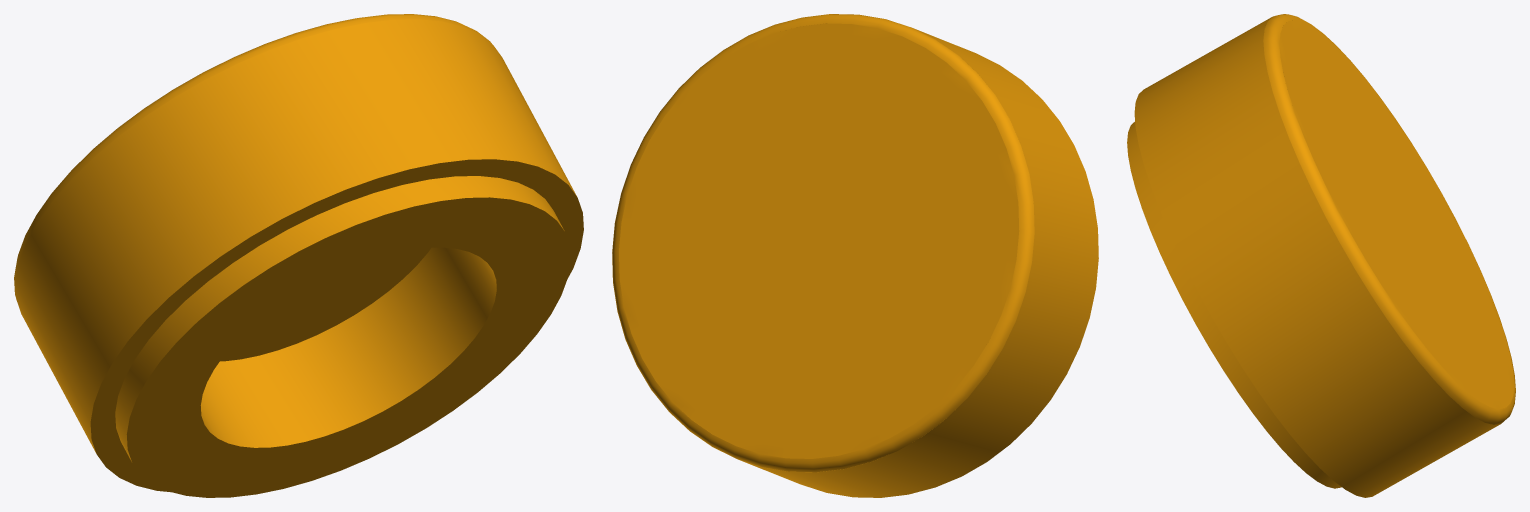
Rendered from tile_round1*1_trans_yellow.obj.
3 renders of one model, left to right at view 1: azimuth 30°, elevation 25°; view 2: azimuth 150°, elevation 25°; view 3: azimuth 270°, elevation 25°, orthographic. The views are drawn at different scales.
Bounding box in the file's own units: 20.01 × 20.48 × 16.65.
